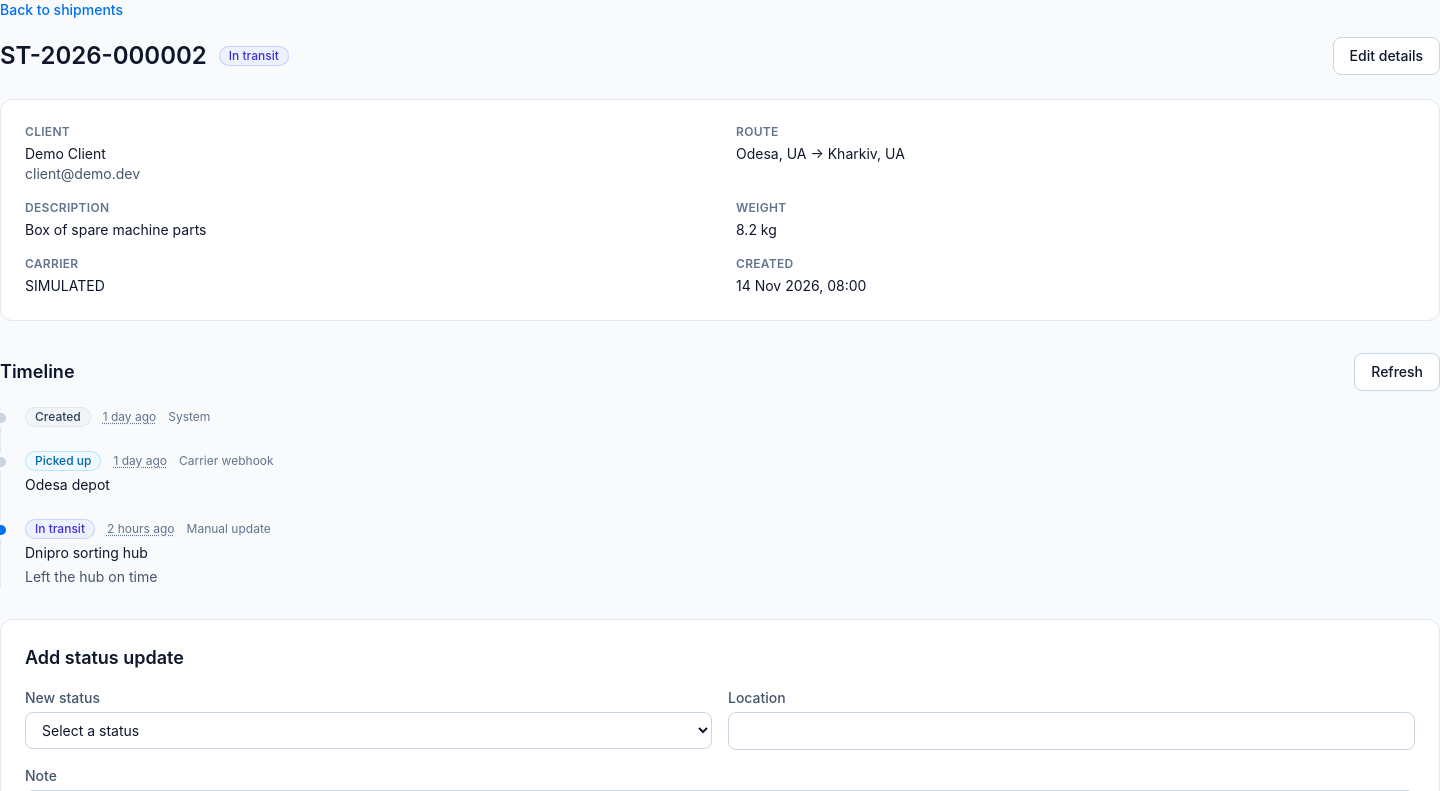
Test: ShipmentDetailView — the status update form › refetches a stale detail after an illegal transition
The image size is (1440, 791).
Expected: the heading "Add status update" is shown, [25,647,184,668]
Select "At warehouse" in the dropdown labelled "New status". click: [368, 730]
box: [25,712,712,749]
(page scrolled)
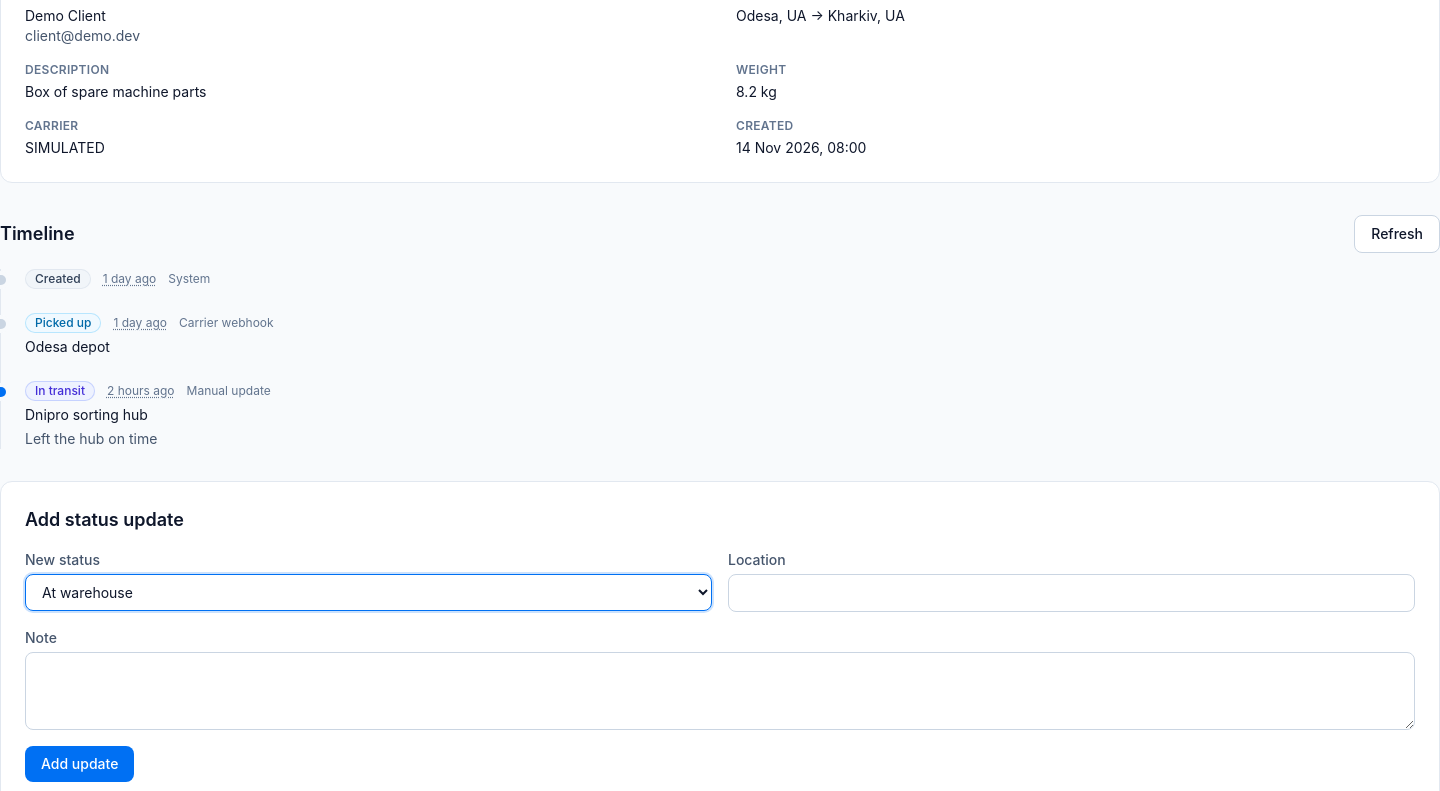
Click the button "Add update". click: [80, 764]
box: [25,746,134,782]
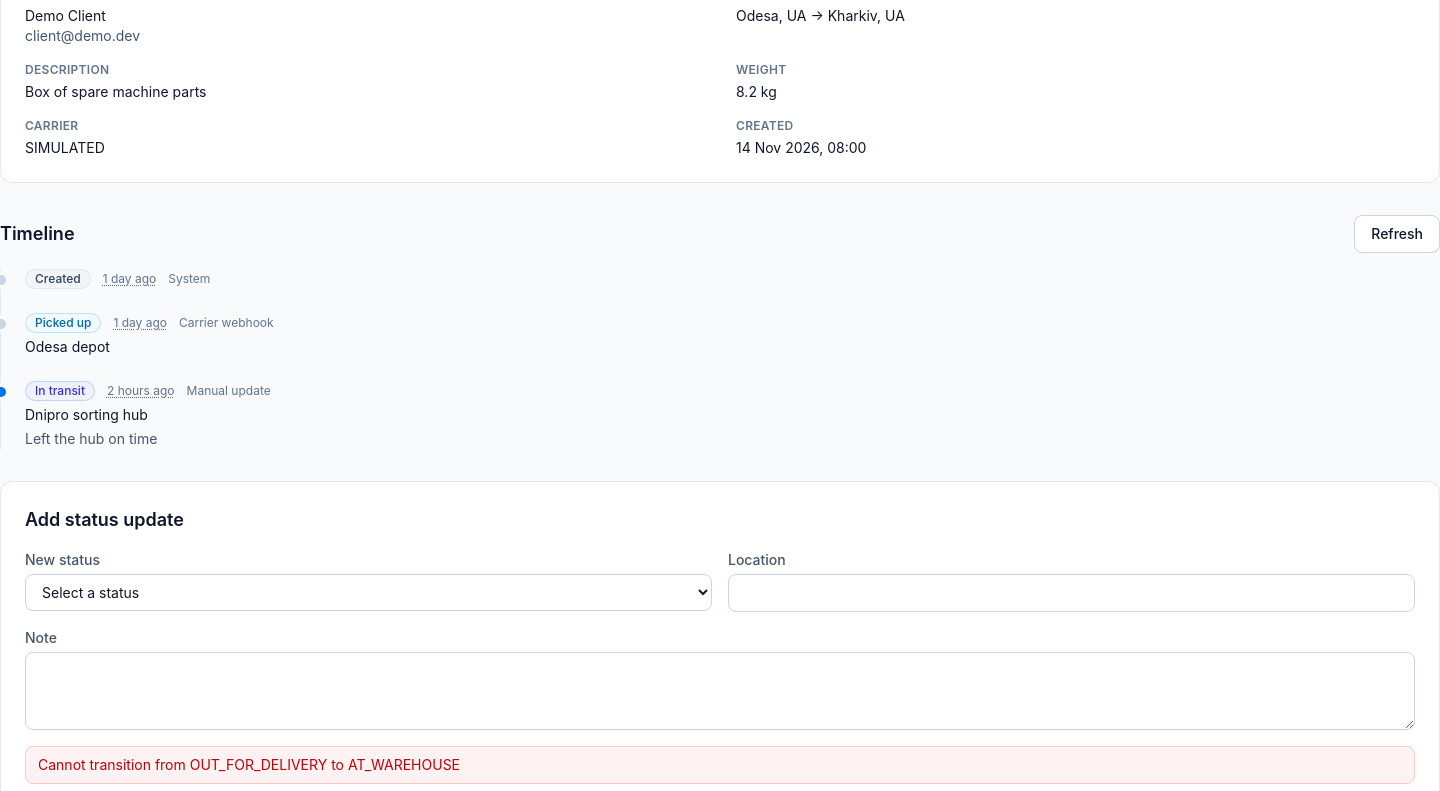
Expected: the message reads "Cannot transition from OUT_FOR_DELIVERY to AT_WAREHOUSE", [38,756,460,773]
